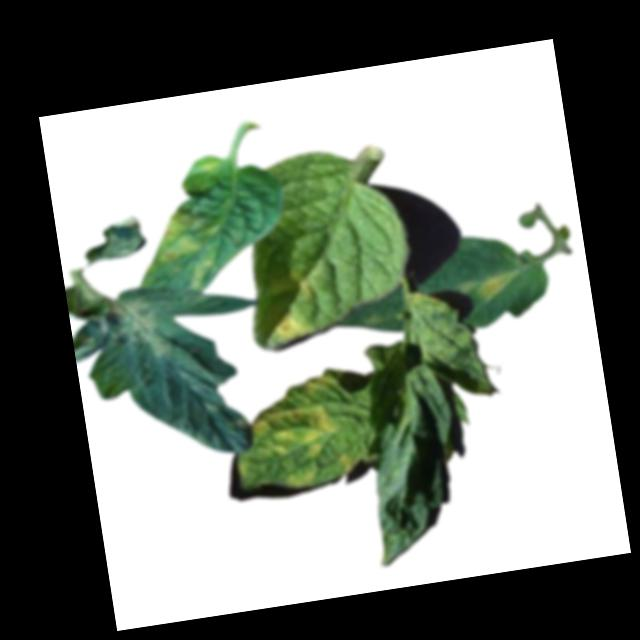Leaf_Mold: (243, 369, 344, 462), (140, 203, 226, 296), (103, 293, 180, 365), (275, 310, 317, 345), (474, 270, 518, 301), (337, 447, 360, 475), (301, 278, 318, 301)
